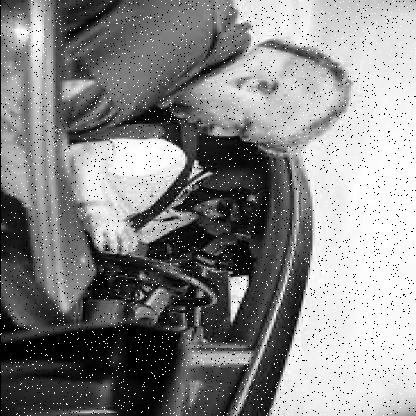seatbelt: (96, 149, 274, 250)
